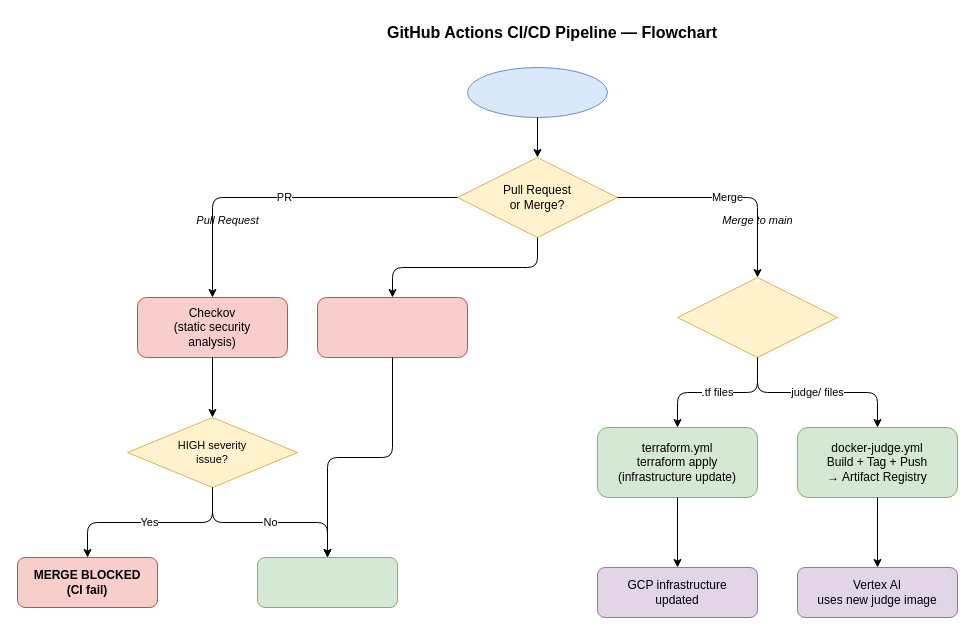
Some shapes in this 975 by 635 pixel diagram are drawn without their labels. The shapes that lost their labels are listed below. From the top down, each one's centre as x and y in pixels, then its label:
At (537,92): "Code Change (git push)".
At (392,327): "Lint (terraform fmt --check + terraform validate)".
At (757,317): "Which file changed?".
At (327,582): "PR checks passed".
